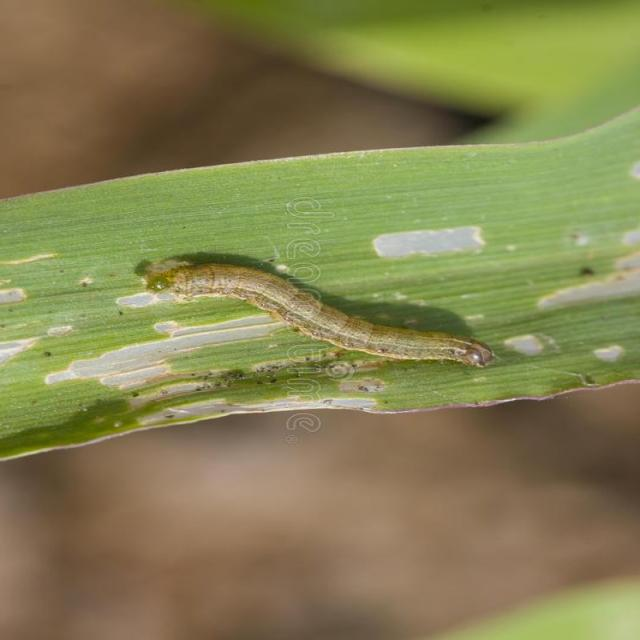army worm: (132, 253, 502, 376)
